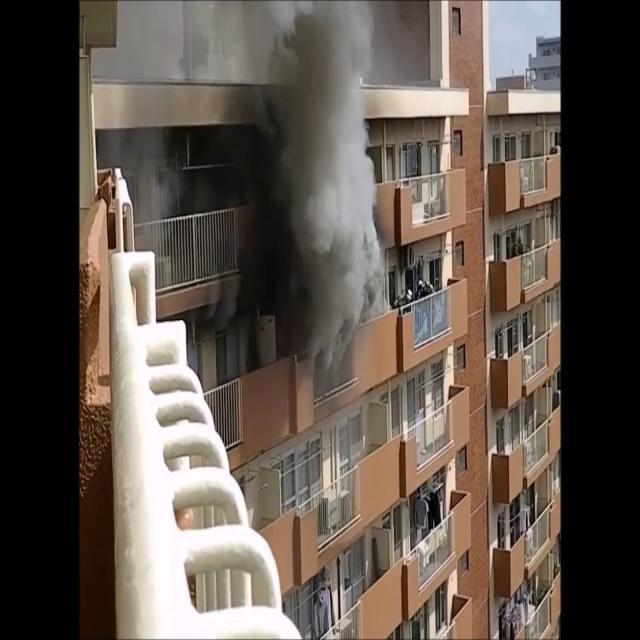Smoke: (218, 2, 386, 400)
